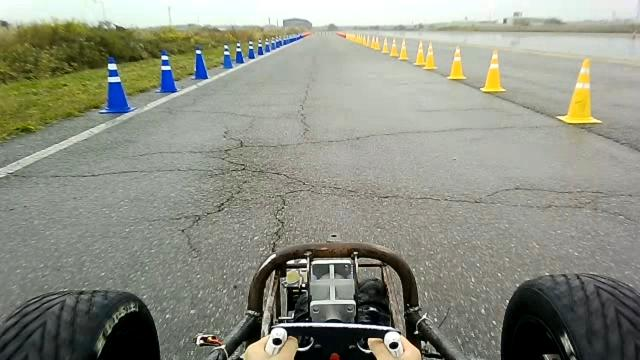blue cone: (98, 56, 136, 114), (154, 49, 179, 93), (191, 47, 209, 80), (220, 43, 233, 69), (235, 41, 245, 63), (247, 40, 256, 59), (257, 38, 264, 56), (264, 37, 271, 53), (270, 38, 276, 51)
yellow cone: (556, 58, 602, 124), (480, 48, 506, 93), (447, 45, 466, 80), (423, 41, 437, 70), (414, 40, 426, 66), (398, 38, 409, 60), (389, 37, 399, 57), (381, 36, 389, 54), (372, 36, 381, 50)
